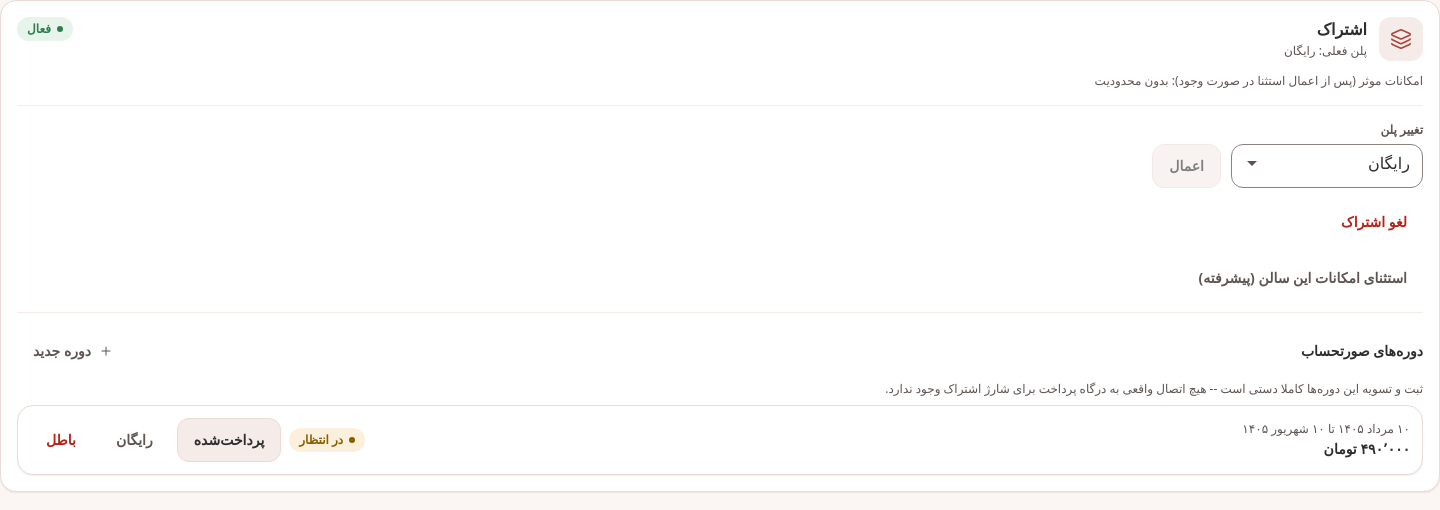
SalonSubscriptionCard › billing periods › voids a pending period through the confirm step, sending the status that was picked
What coordinates should you click on to do the following:
click the button with test id "mark-void-period-1"
I would click on:
 (61, 440)
Its box is x1=30 y1=418 x2=92 y2=462.
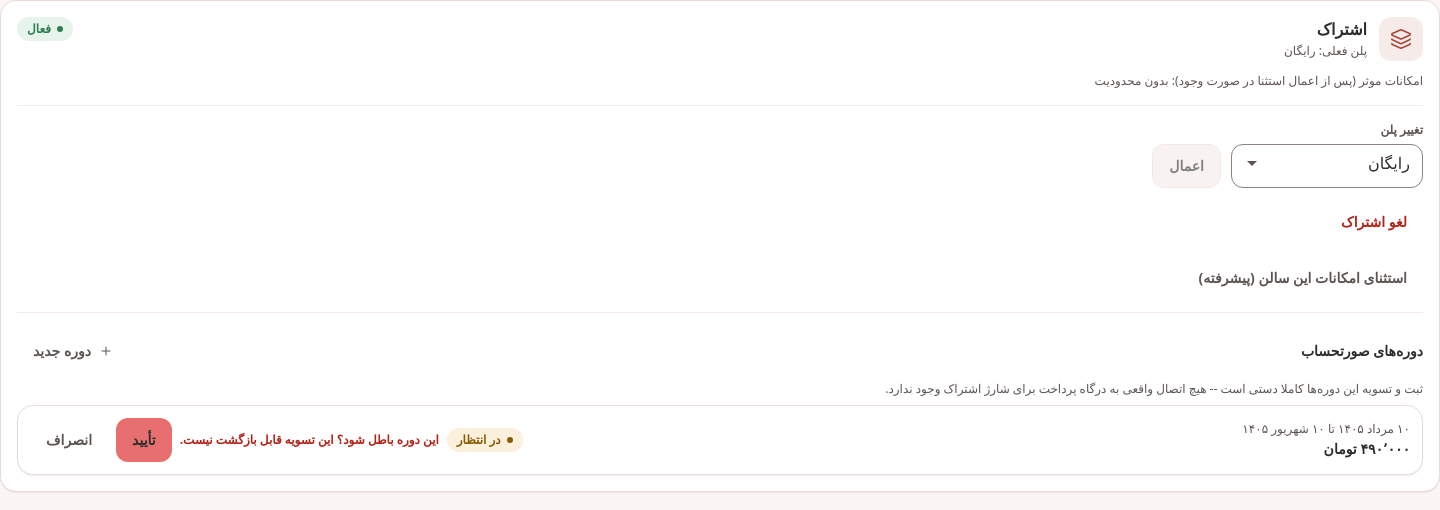
What coordinates should you click on to do the following:
click the button with test id "confirm-resolve-period-1"
I would click on:
 (144, 440)
Its box is x1=116 y1=418 x2=172 y2=462.
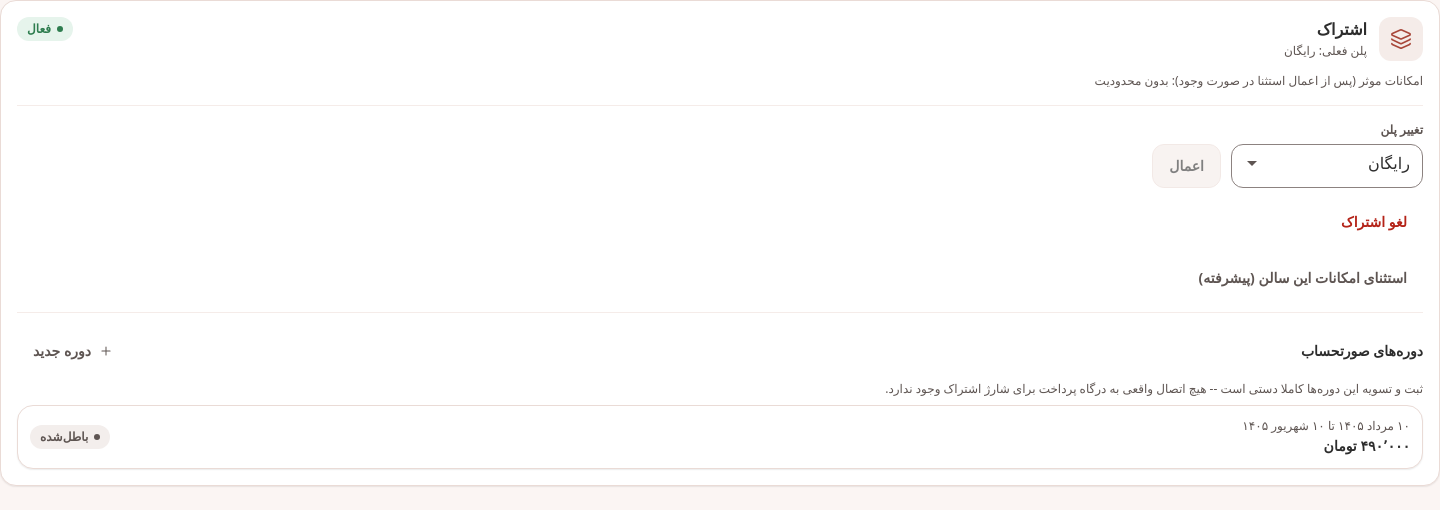
Result: the element with test id "billing-period-row" shows "باطل‌شده" at x1=40 y1=428 x2=88 y2=445
